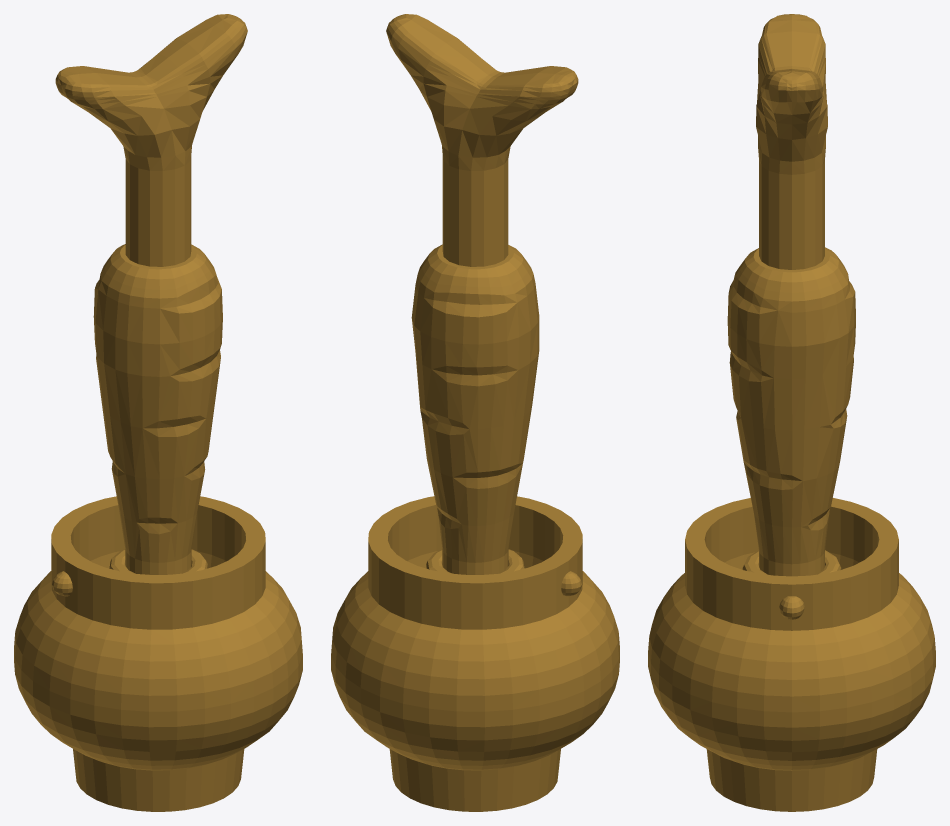
Rendered from Pots.dae.
3 renders of one model, left to right at view 1: azimuth 30°, elevation 25°; view 2: azimuth 150°, elevation 25°; view 3: azimuth 270°, elevation 25°, orthographic.
Parts seen in each view (by area): view 1: Part.4, Part.2, Part.3, Part.0, Part.1; view 2: Part.4, Part.2, Part.3, Part.0, Part.1; view 3: Part.4, Part.2, Part.3, Part.0, Part.1.
Boxes of the visible parts, x1,y1,x2,y2 form: Part.4: (14, 496, 302, 770); Part.2: (93, 244, 222, 574); Part.3: (55, 14, 247, 266); Part.0: (73, 749, 244, 811); Part.1: (109, 549, 207, 573); Part.4: (331, 496, 619, 770); Part.2: (411, 244, 539, 574); Part.3: (386, 14, 578, 266); Part.0: (389, 749, 560, 811); Part.1: (426, 549, 524, 573); Part.4: (648, 498, 935, 770); Part.2: (727, 247, 855, 576); Part.3: (756, 14, 827, 269); Part.0: (706, 749, 877, 811); Part.1: (742, 550, 841, 574).
Bounding box in the file's own units: 14 × 39.62 × 14.
